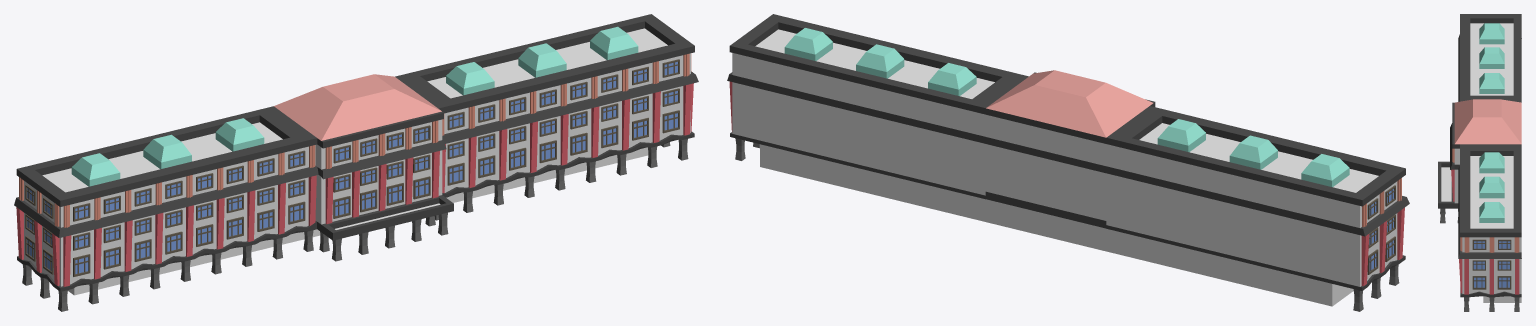
The model's file is PalazzoStatutoL.fbx.
3 renders of one model, left to right at view 1: azimuth 30°, elevation 25°; view 2: azimuth 150°, elevation 25°; view 3: azimuth 270°, elevation 25°, orthographic. The views are drawn at different scales.
Parts seen in each view (by area): view 1: PalazzoStatutoL; view 2: PalazzoStatutoL; view 3: PalazzoStatutoL.
Boxes of the visible parts, bbox=[...] form: PalazzoStatutoL: bbox=[14, 14, 698, 311]; PalazzoStatutoL: bbox=[727, 14, 1409, 311]; PalazzoStatutoL: bbox=[1438, 14, 1521, 311].
Bounding box in the file's own units: 8807 × 1783 × 1412.
